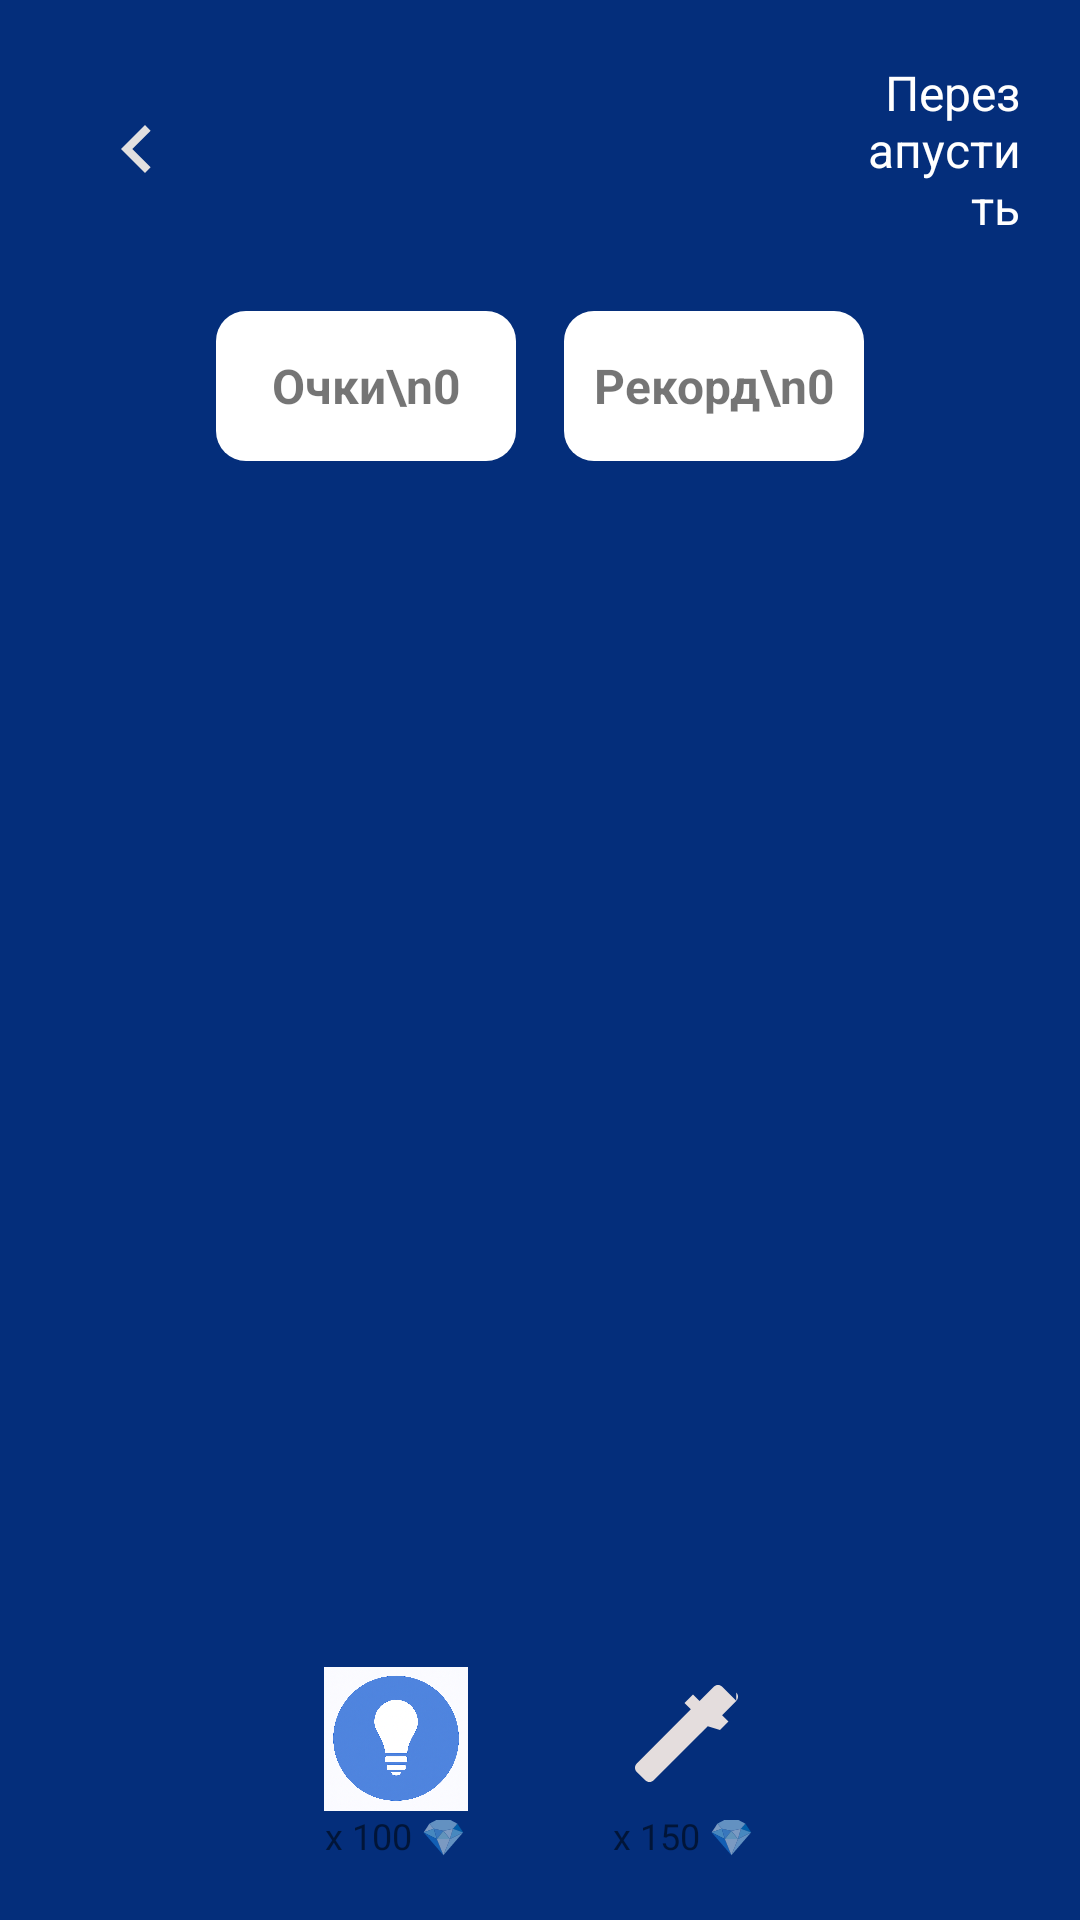

Where to tap for icons on this 1080x1920 app screen, as (x=x, y=y):
Break: (x=686, y=1733)
Назад: (x=136, y=149)
